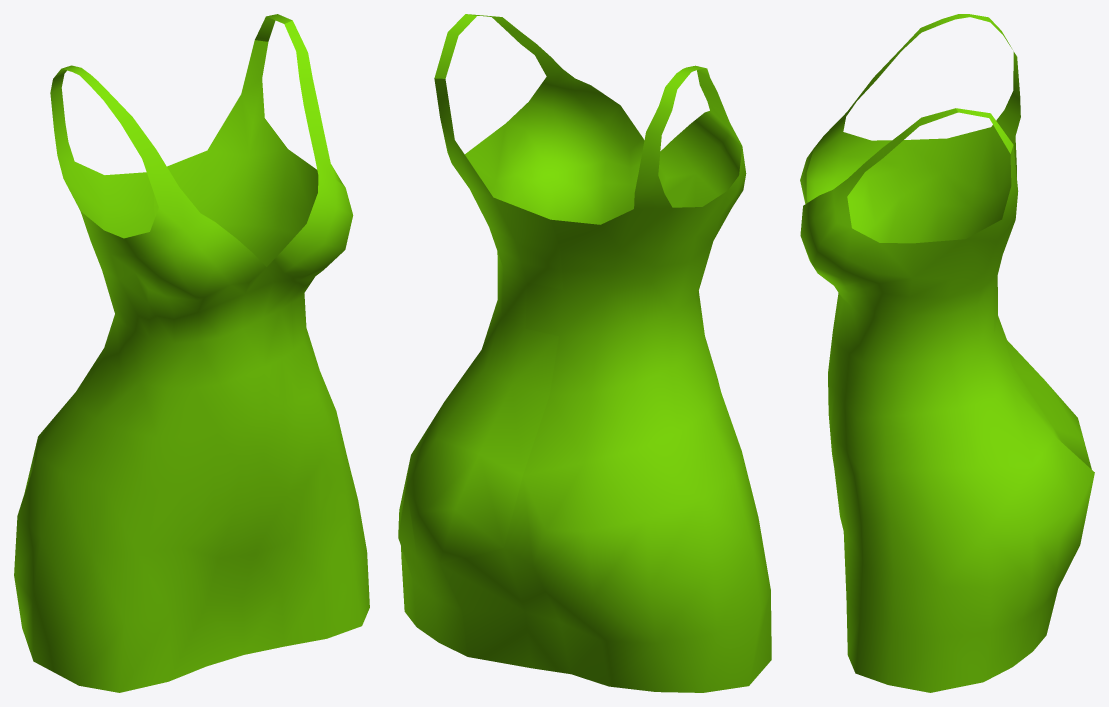
Rendered from clothes2.fbx.
3 views of the same model, side by side, from view 1: azimuth 30°, elevation 25°; view 2: azimuth 150°, elevation 25°; view 3: azimuth 270°, elevation 25° (orthographic). The views are drawn at different scales.
Parts seen in each view (by area): view 1: clothes2; view 2: clothes2; view 3: clothes2.
Boxes of the visible parts, bbox=[...] form: clothes2: bbox=[14, 14, 369, 692]; clothes2: bbox=[398, 14, 771, 692]; clothes2: bbox=[800, 14, 1094, 692].
Bounding box in the file's own units: 44.83 × 75.44 × 36.08.
Materials: 1 (1 with a texture image).
